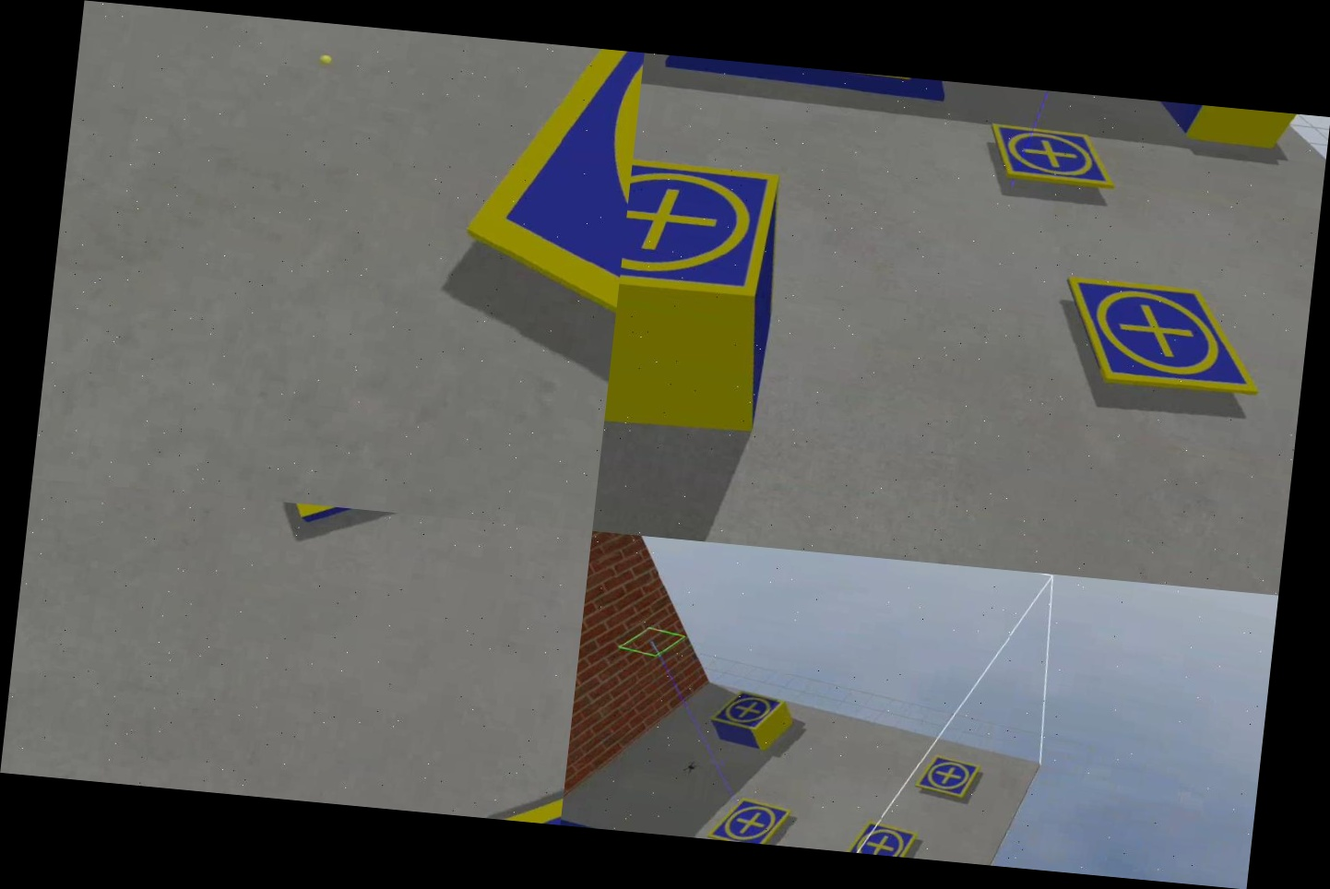large_base: (659, 54, 954, 117)
small_base: (423, 36, 645, 470), (1050, 269, 1279, 408), (617, 138, 783, 319), (980, 118, 1122, 195), (707, 795, 796, 846), (911, 750, 986, 804), (712, 686, 787, 736), (843, 817, 924, 859)
